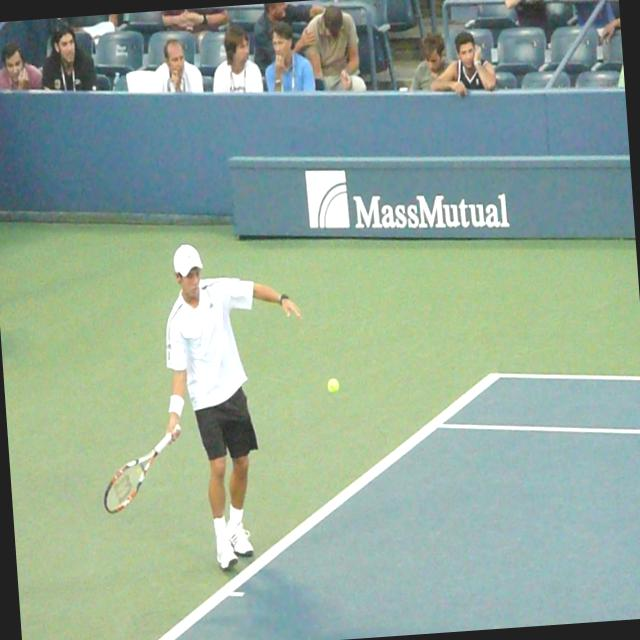Tennis Ball: (328, 378, 339, 392)
